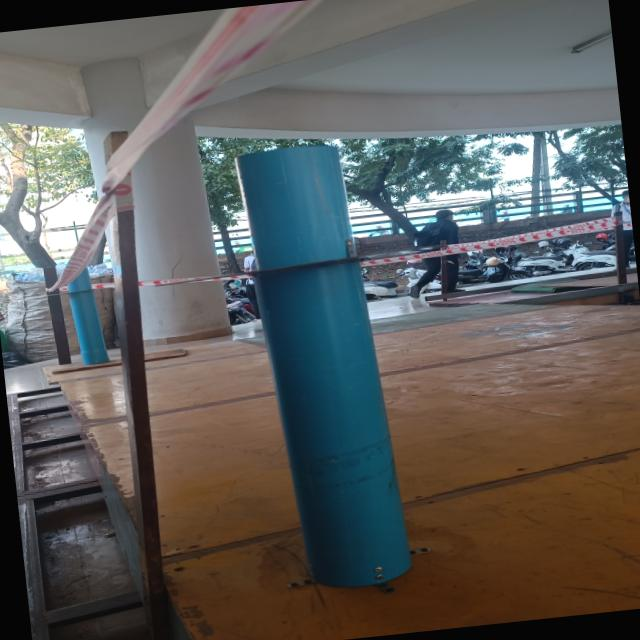pole: (170, 120, 454, 428)
